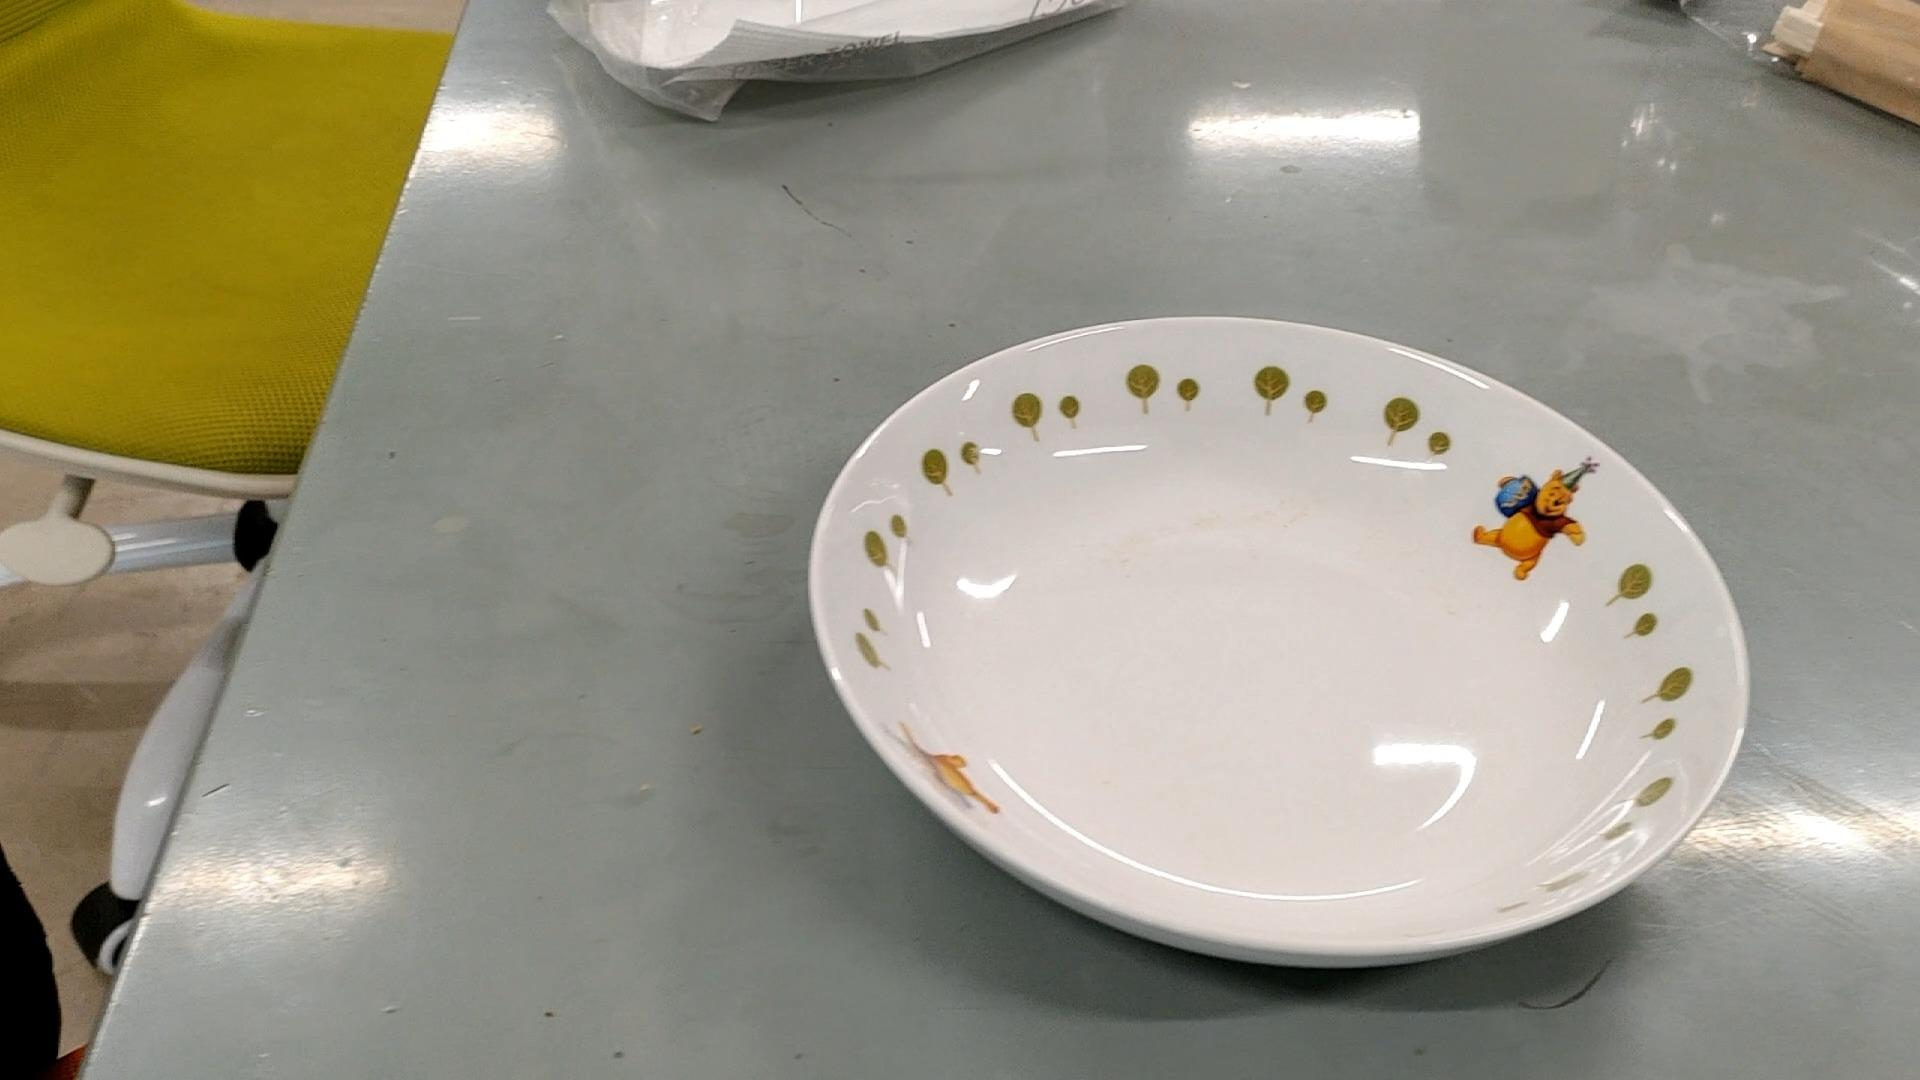plate: (818, 310, 1747, 968)
